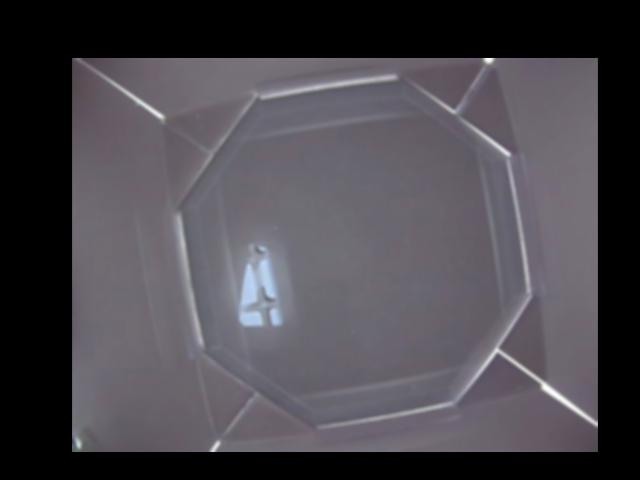China: (236, 245, 283, 325)
